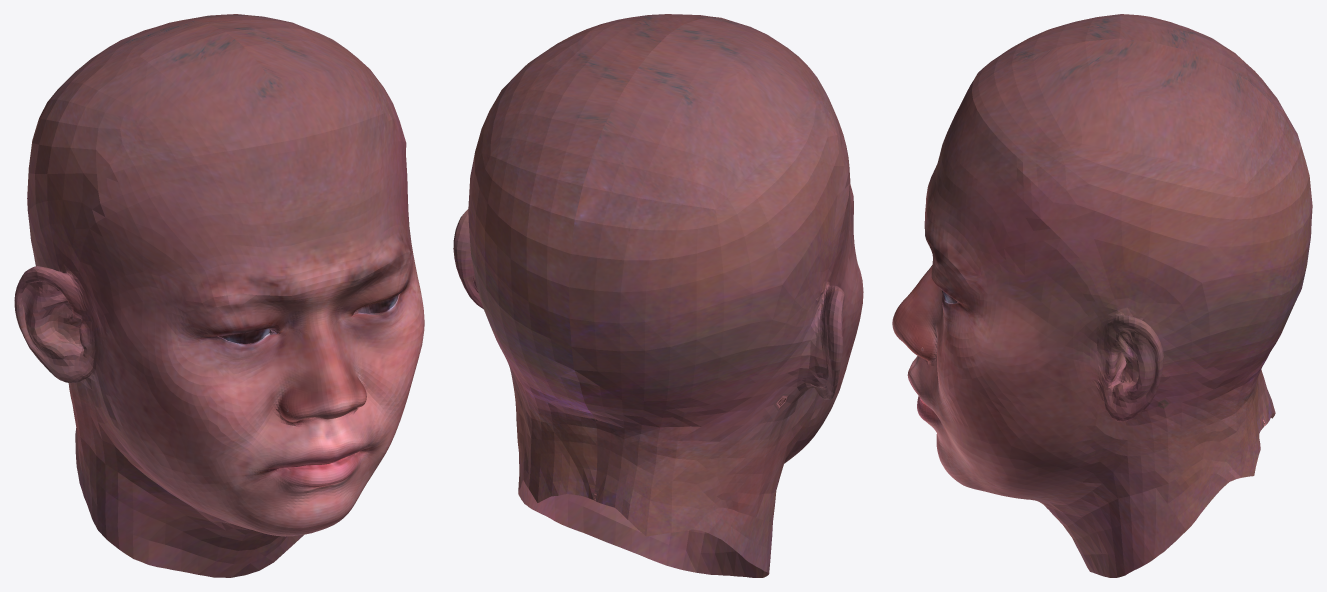
File: result_concrete.obj
3 views of the same model, side by side, from view 1: azimuth 30°, elevation 25°; view 2: azimuth 150°, elevation 25°; view 3: azimuth 270°, elevation 25° (orthographic). The views are drawn at different scales.
Size of the model in its own units: 217 by 292 by 214.
